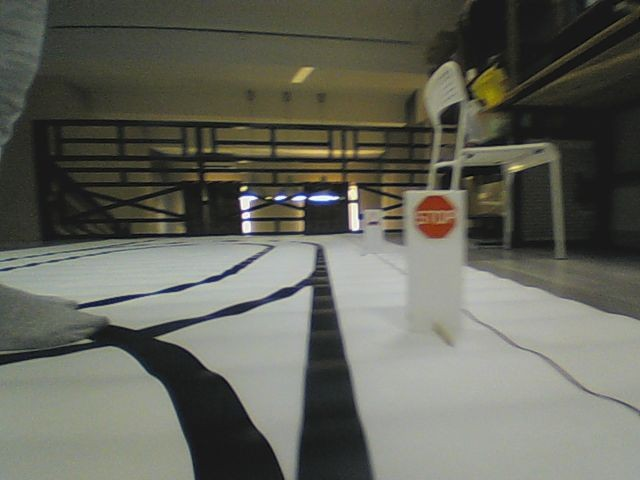Stop: (414, 194, 457, 240)
